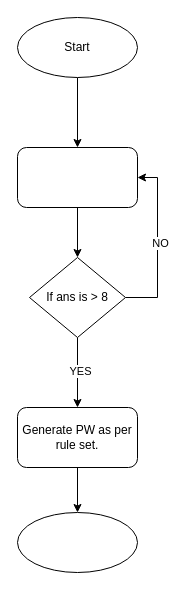
This 186x590 diagram has some shape labels left out. The shapes that lost their labels are listed below. From the top down, each one's centre as x and y in pixels, then its label:
the point at 77,177: Ask Users length of PW?
the point at 77,542: End
